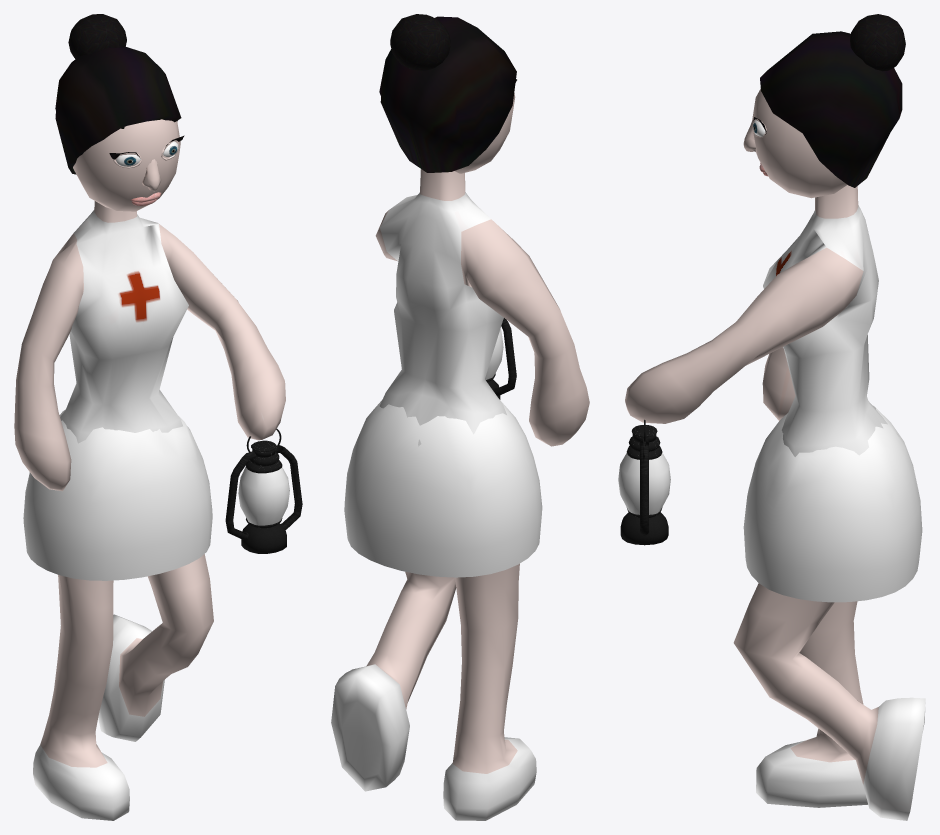
Rendered from walking_000019.obj.
3 renders of one model, left to right at view 1: azimuth 30°, elevation 25°; view 2: azimuth 150°, elevation 25°; view 3: azimuth 270°, elevation 25°, orthographic. The views are drawn at different scales.
Visible parts, largest first — view 1: Cube_Cube.001, Cube.001_Cube, Cube.004; view 2: Cube_Cube.001, Cube.001_Cube, Cube.004; view 3: Cube_Cube.001, Cube.001_Cube, Cube.004.
Part boxes in pixels (box(x1,y1,x2,y2)): Cube_Cube.001: box(14, 14, 285, 820); Cube.001_Cube: box(23, 409, 212, 580); Cube.004: box(225, 429, 302, 553); Cube_Cube.001: box(331, 14, 589, 820); Cube.001_Cube: box(344, 399, 542, 577); Cube.004: box(485, 318, 516, 399); Cube_Cube.001: box(625, 14, 925, 820); Cube.001_Cube: box(743, 405, 922, 602); Cube.004: box(618, 419, 670, 545).
Size of the model in its own units: 0.6085 by 2.08 by 0.725.
